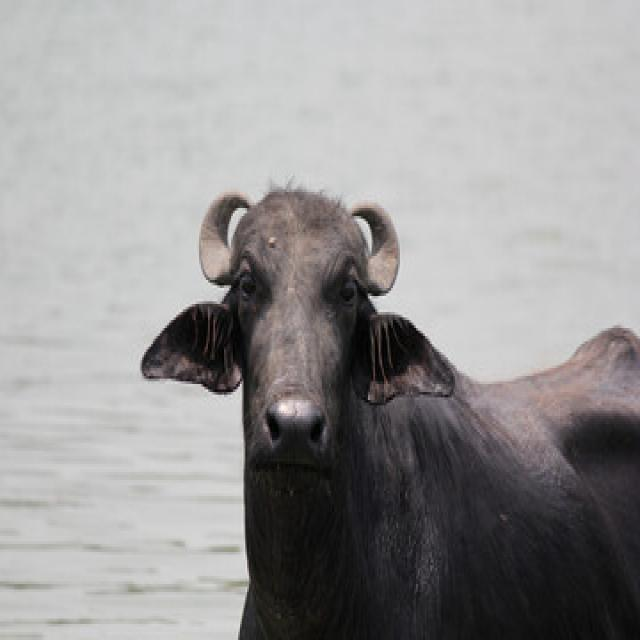Buffalo: (139, 176, 638, 637)
